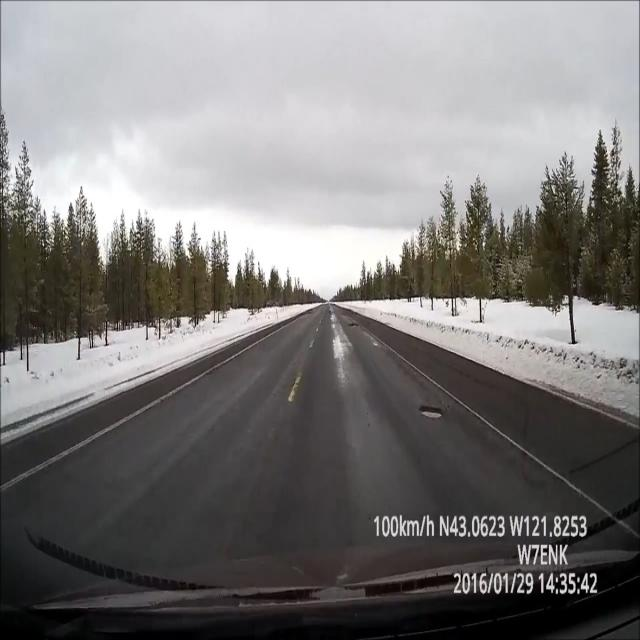Pothole: (420, 394, 449, 433)
